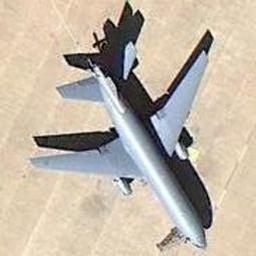Airplane: (24, 36, 219, 249)
